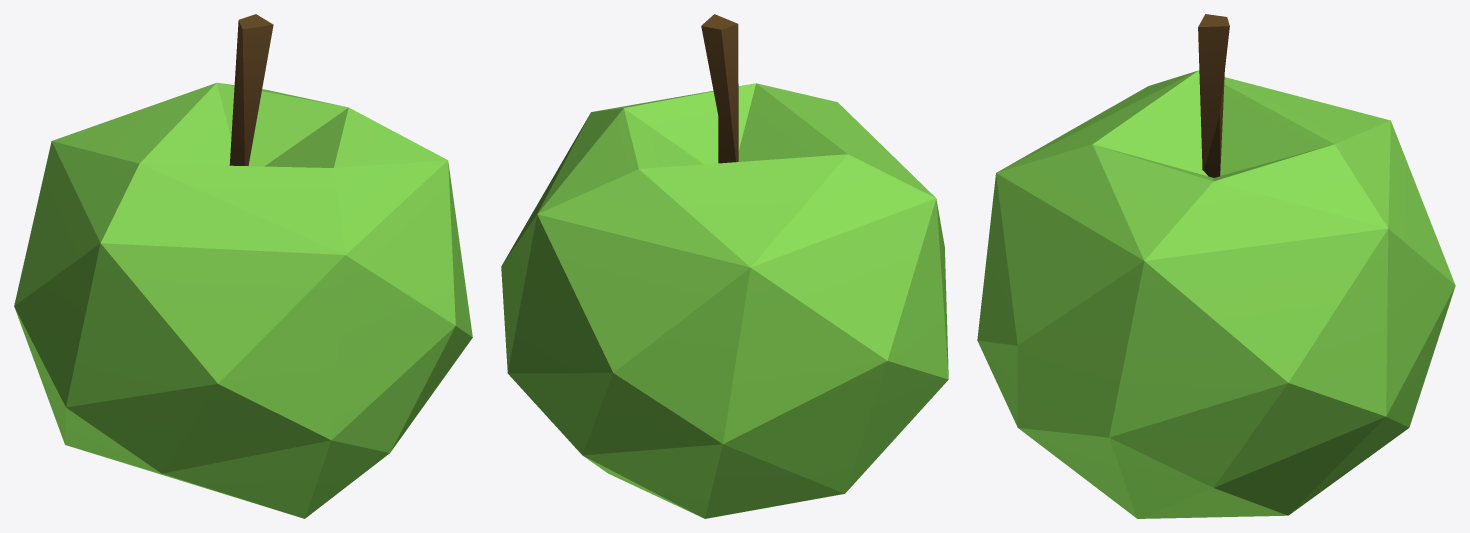
The model's file is Apple.fbx.
3 renders of one model, left to right at view 1: azimuth 30°, elevation 25°; view 2: azimuth 150°, elevation 25°; view 3: azimuth 270°, elevation 25°, orthographic. The views are drawn at different scales.
Visible parts, largest first — view 1: Apple; view 2: Apple; view 3: Apple.
Boxes of the visible parts, left/top/right/bottom form: Apple: left=14, top=14, right=472, bottom=518; Apple: left=501, top=14, right=948, bottom=518; Apple: left=977, top=14, right=1455, bottom=518.
Bounding box in the file's own units: 0.3632 × 0.422 × 0.3728.
